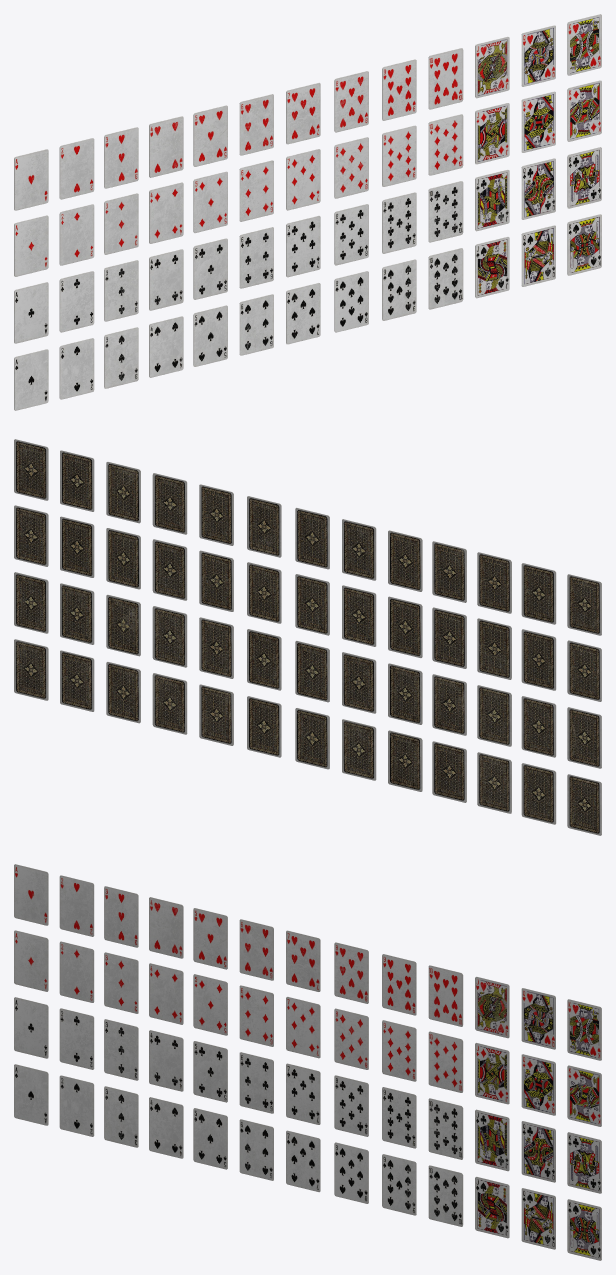
File: playing-cards.glb
3 views of the same model, one above another, from view 1: azimuth 30°, elevation 25°; view 2: azimuth 150°, elevation 25°; view 3: azimuth 330°, elevation 25° (orthographic).
Visible parts, largest first — view 1: diamonds02, diamonds10, clubs10, hearts02, hearts10, clubs02, spades02, spades10, hearts07, diamonds03, hearts06, hearts09 (+40 smaller); view 2: diamonds02, diamonds10, clubs10, hearts02, hearts10, clubs02, spades02, spades10, hearts07, diamonds03, hearts06, hearts09 (+40 smaller); view 3: clubs02, diamonds10, diamonds02, spades02, spades10, hearts02, hearts10, clubs10, diamonds05, diamonds11, clubs06, spades07 (+40 smaller).
Boxes of the visible parts, x1,y1,x2,y2 form: diamonds02: (59,204,94,265); diamonds10: (428,114,463,175); clubs10: (428,181,463,242); hearts02: (59,138,94,199); hearts10: (428,48,463,109); clubs02: (59,271,94,332); spades02: (59,338,94,399); spades10: (428,248,463,309); hearts07: (286,82,320,144); diamonds03: (104,193,138,254); hearts06: (239,94,273,155); hearts09: (382,59,416,120); diamonds02: (521,629,556,690); diamonds10: (152,539,187,600); clubs10: (152,606,187,667); hearts02: (521,563,556,624); hearts10: (152,473,187,534); clubs02: (521,696,556,757); spades02: (521,763,556,824); spades10: (152,673,187,734); hearts07: (295,507,329,569); diamonds03: (477,618,511,679); hearts06: (342,519,376,580); hearts09: (199,484,233,545); clubs02: (59,1008,94,1069); diamonds10: (428,1031,463,1092); diamonds02: (59,941,94,1002); spades02: (59,1075,94,1136); spades10: (428,1165,463,1226); hearts02: (59,875,94,936); hearts10: (428,965,463,1026); clubs10: (428,1098,463,1159); diamonds05: (193,974,227,1035); diamonds11: (475,1042,509,1104); clubs06: (239,1052,273,1113); spades07: (286,1130,320,1192).
Size of the model in its own units: 1.37 by 0.5649 by 0.000996.
Materials: 1 (1 with a texture image).
